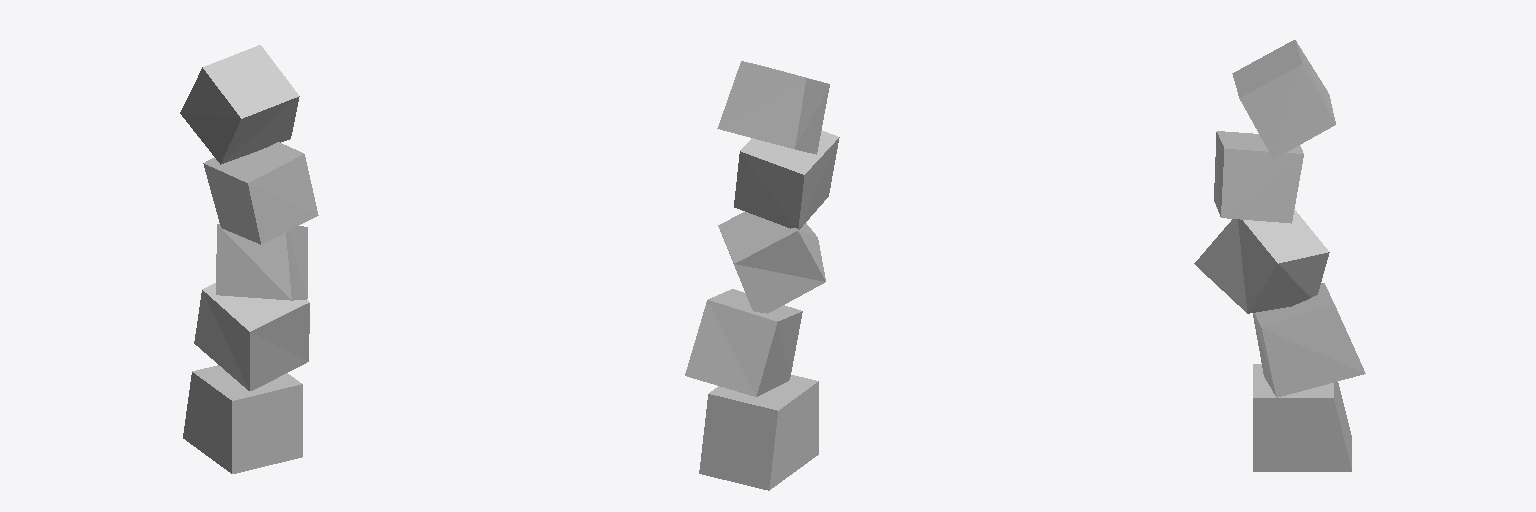
File: cubes.obj
The picture shows the model from 3 angles: view 1: azimuth 30°, elevation 25°; view 2: azimuth 150°, elevation 25°; view 3: azimuth 270°, elevation 25°; orthographic projection.
Parts seen in each view (by area): view 1: Cube, Cube.004, Cube.001, Cube.003, Cube.002; view 2: Cube, Cube.001, Cube.002, Cube.004, Cube.003; view 3: Cube.002, Cube, Cube.001, Cube.004, Cube.003.
Part boxes in pixels (x1,y1,x2,y2): Cube: (183, 365, 302, 473); Cube.004: (180, 45, 299, 164); Cube.001: (194, 283, 309, 390); Cube.003: (203, 142, 318, 244); Cube.002: (216, 224, 307, 300); Cube: (699, 375, 818, 490); Cube.001: (685, 289, 802, 396); Cube.002: (718, 212, 825, 313); Cube.004: (717, 61, 829, 154); Cube.003: (734, 131, 839, 229); Cube.002: (1194, 209, 1329, 313); Cube: (1253, 364, 1351, 471); Cube.001: (1253, 283, 1365, 397); Cube.004: (1232, 40, 1335, 159); Cube.003: (1214, 131, 1303, 223).
Size of the model in its own units: 2.93 by 10.88 by 4.25.